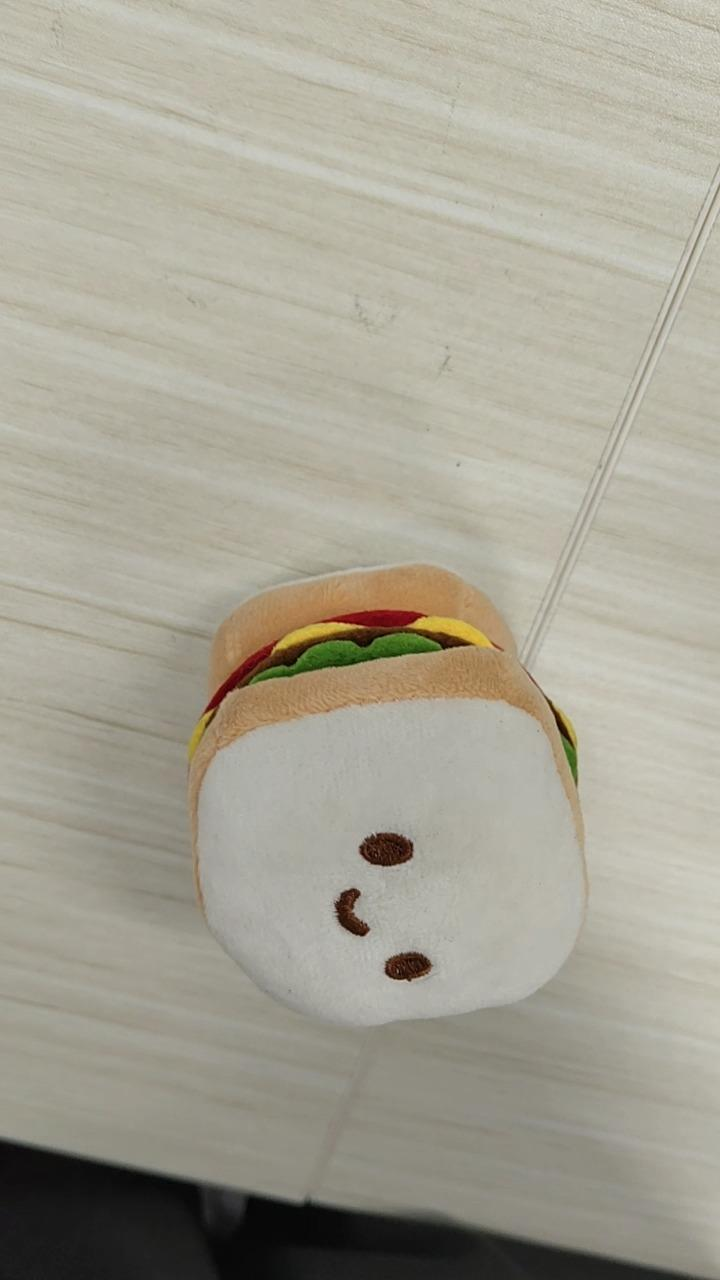objects: (185, 560, 589, 1029)
